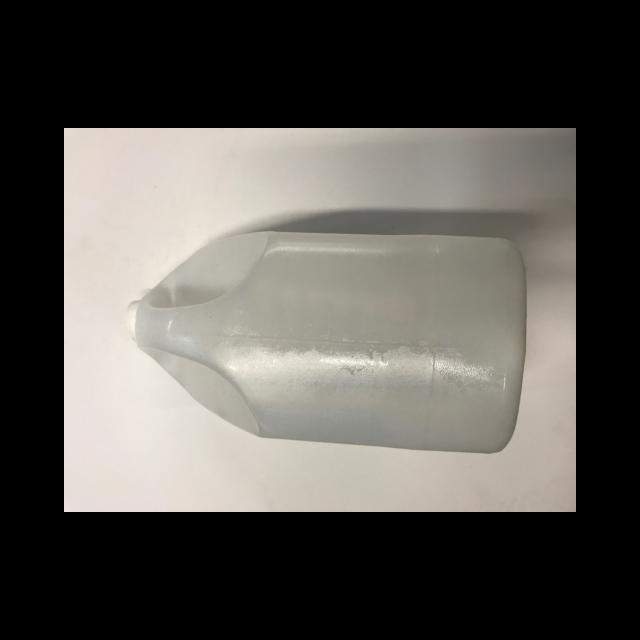plastic: (124, 230, 528, 453), (123, 299, 139, 338)
